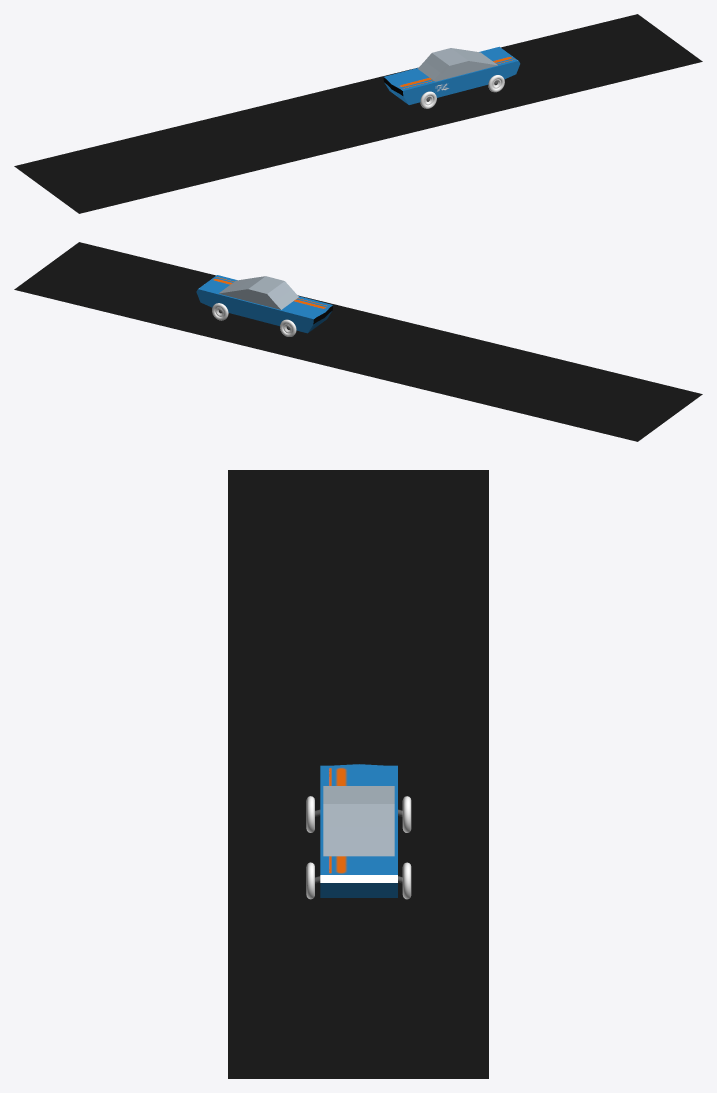
Rendered from car.gltf.
3 views of the same model, one above another, from view 1: azimuth 30°, elevation 25°; view 2: azimuth 150°, elevation 25°; view 3: azimuth 270°, elevation 25° (orthographic). The views are drawn at different scales.
Visible parts, largest first — view 1: Road, Body, Hood; view 2: Road, Body, Hood; view 3: Road, Body, Hood.
Part boxes in pixels (box(x1,y1,x2,y2)): Road: box(14, 14, 702, 213); Body: box(383, 46, 520, 104); Hood: box(418, 48, 497, 81); Road: box(14, 242, 702, 441); Body: box(196, 275, 333, 333); Hood: box(219, 276, 298, 309); Road: box(228, 470, 488, 1078); Body: box(320, 764, 397, 897); Hood: box(323, 786, 394, 856).
Size of the model in its own units: 20.2 by 1.08 by 3.66.
7 materials, 1 textured.
